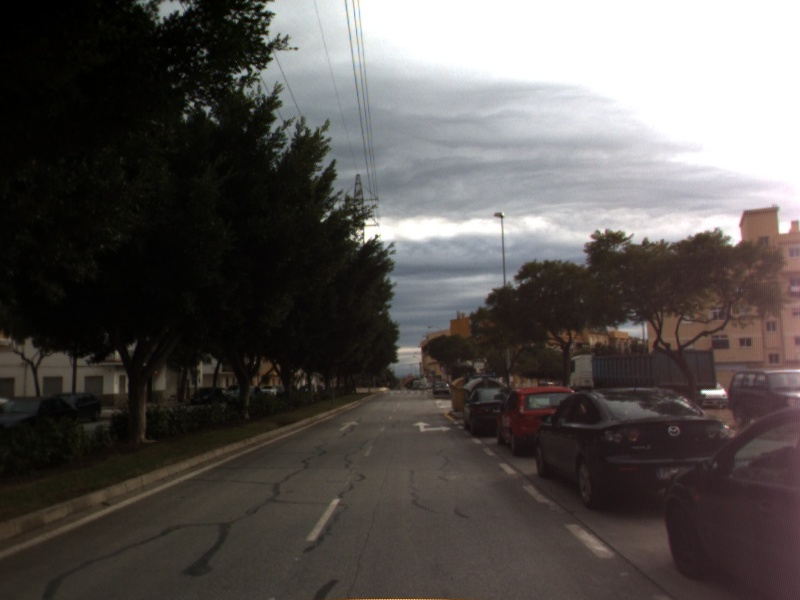STRAIGHT: (337, 418, 361, 433)
STRAIGHT_RIGHT: (410, 419, 455, 434)
